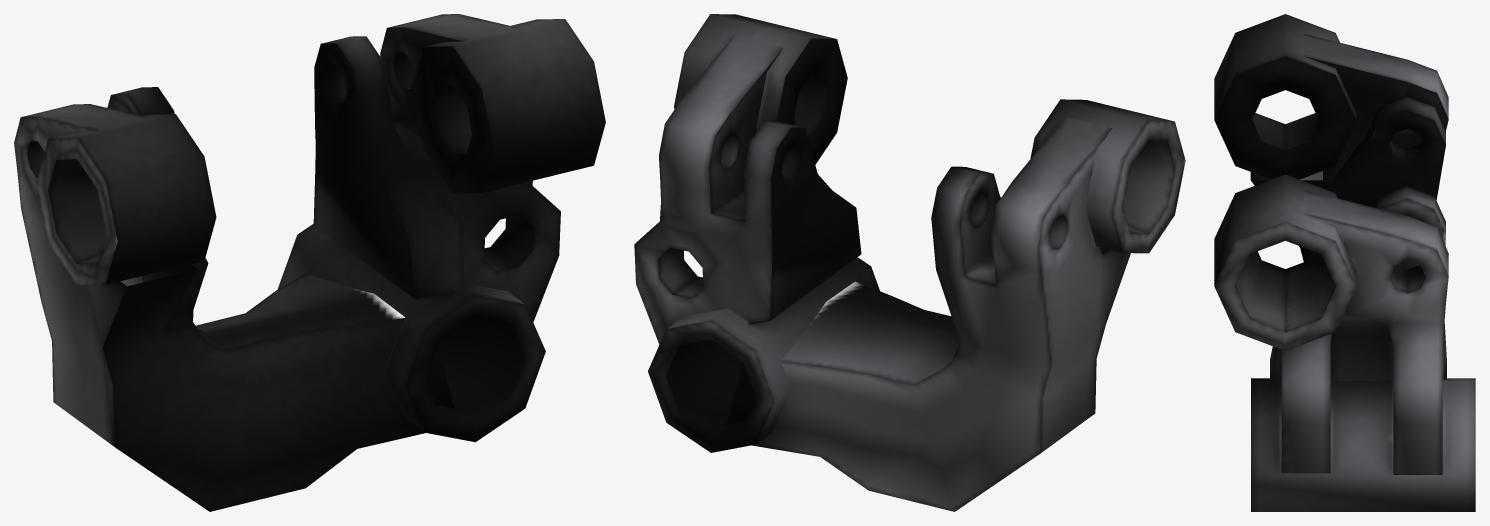
Rendered from l_lglut.dae.
3 renders of one model, left to right at view 1: azimuth 30°, elevation 25°; view 2: azimuth 150°, elevation 25°; view 3: azimuth 270°, elevation 25°, orthographic. The views are drawn at different scales.
Visible parts, largest first — view 1: l_lglut; view 2: l_lglut; view 3: l_lglut.
Part boxes in pixels (x1=…): l_lglut: x1=14, y1=14, x2=605, y2=511; l_lglut: x1=634, y1=14, x2=1185, y2=511; l_lglut: x1=1214, y1=14, x2=1475, y2=511.
Bounding box in the file's own units: 0.1439 × 0.0762 × 0.1175.
Materials: 1 (1 with a texture image).
